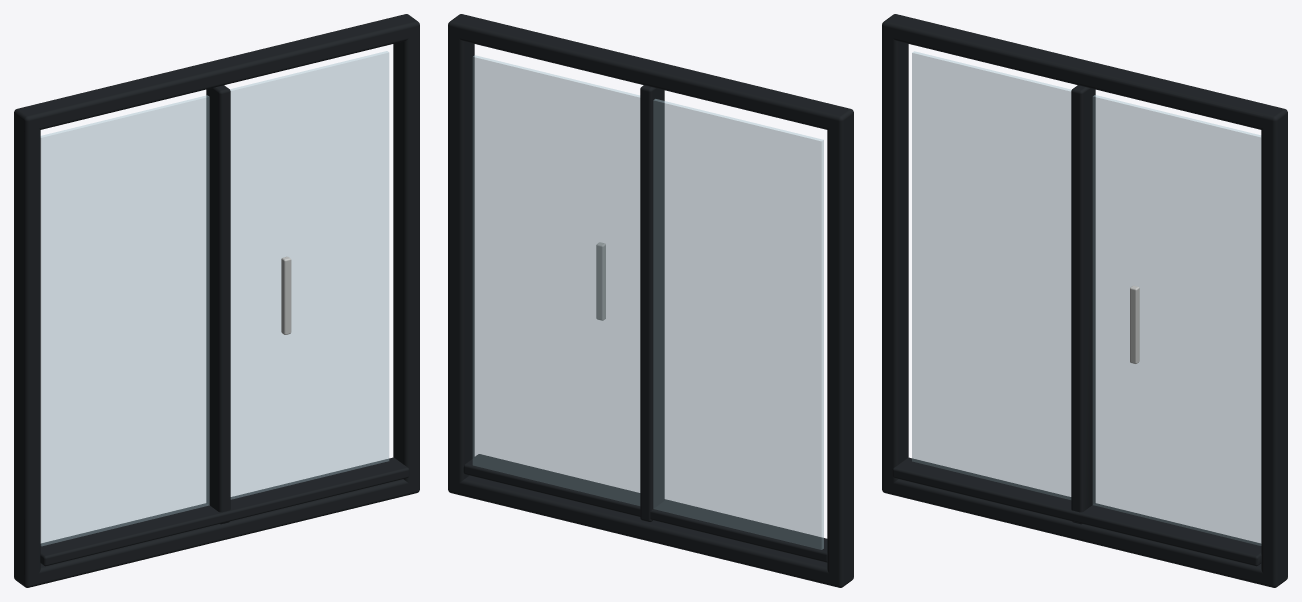
Rendered from modern-sliding-glass-door.optimized.glb.
The picture shows the model from 3 angles, left to right: view 1: azimuth 30°, elevation 25°; view 2: azimuth 150°, elevation 25°; view 3: azimuth 330°, elevation 25°; orthographic projection.
Parts seen in each view (by area): view 1: left sliding door glass, right sliding door glass, sliding door frame top rail, flush pull; view 2: left sliding door glass, right sliding door glass, sliding door frame top rail, flush pull; view 3: right sliding door glass, left sliding door glass, sliding door frame top rail, flush pull.
Boxes of the visible parts, x1,y1,x2,y2 form: left sliding door glass: (40, 95, 209, 546); right sliding door glass: (230, 51, 389, 499); sliding door frame top rail: (14, 14, 419, 587); flush pull: (281, 256, 291, 334); left sliding door glass: (653, 99, 823, 549); right sliding door glass: (472, 55, 640, 505); sliding door frame top rail: (448, 14, 853, 587); flush pull: (596, 242, 605, 320); right sliding door glass: (1092, 95, 1261, 545); left sliding door glass: (912, 51, 1071, 499); sliding door frame top rail: (882, 14, 1287, 587); flush pull: (1130, 285, 1139, 363).
Bounding box in the file's own units: 1.86 × 2.12 × 0.15.
